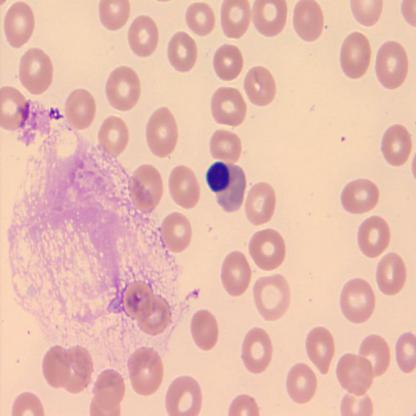NRC: (204, 159, 234, 195)
